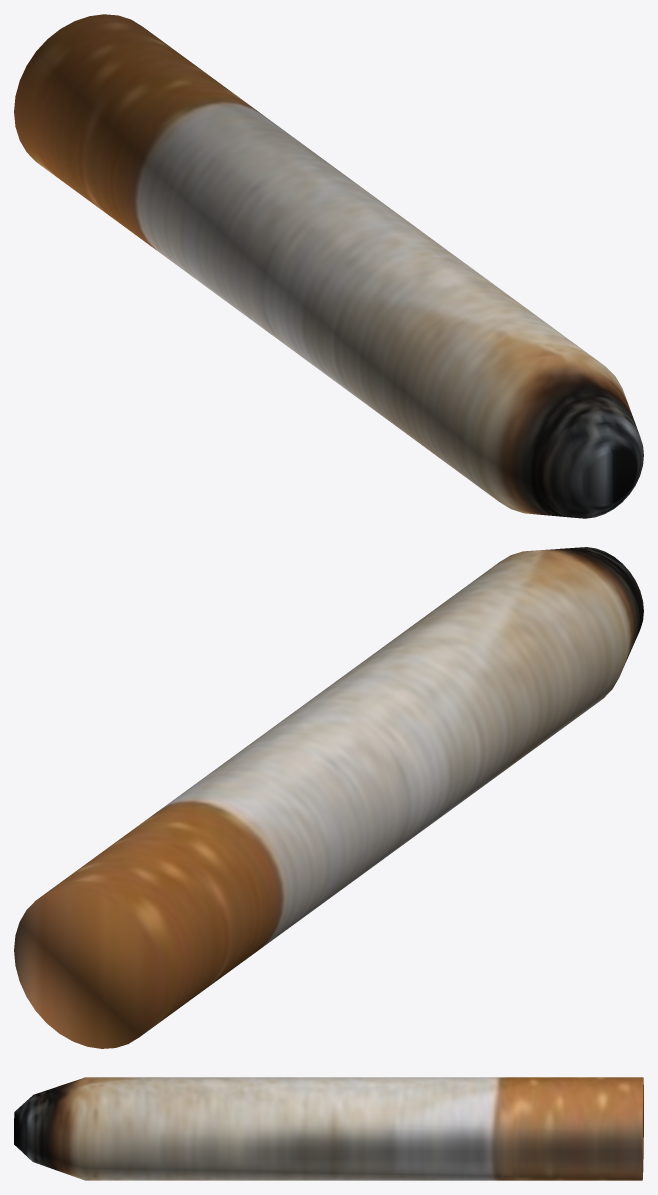
The model's file is CIGARETTE 3.fbx.
3 views of the same model, one above another, from view 1: azimuth 30°, elevation 25°; view 2: azimuth 150°, elevation 25°; view 3: azimuth 270°, elevation 25° (orthographic). The views are drawn at different scales.
Visible parts, largest first — view 1: CIGARETTE 3; view 2: CIGARETTE 3; view 3: CIGARETTE 3.
Part boxes in pixels (x1,y1,x2,y2): CIGARETTE 3: [14, 14, 643, 518]; CIGARETTE 3: [14, 547, 643, 1048]; CIGARETTE 3: [14, 1077, 643, 1180].
Size of the model in its own units: 0.017 by 0.0169 by 0.1031.
